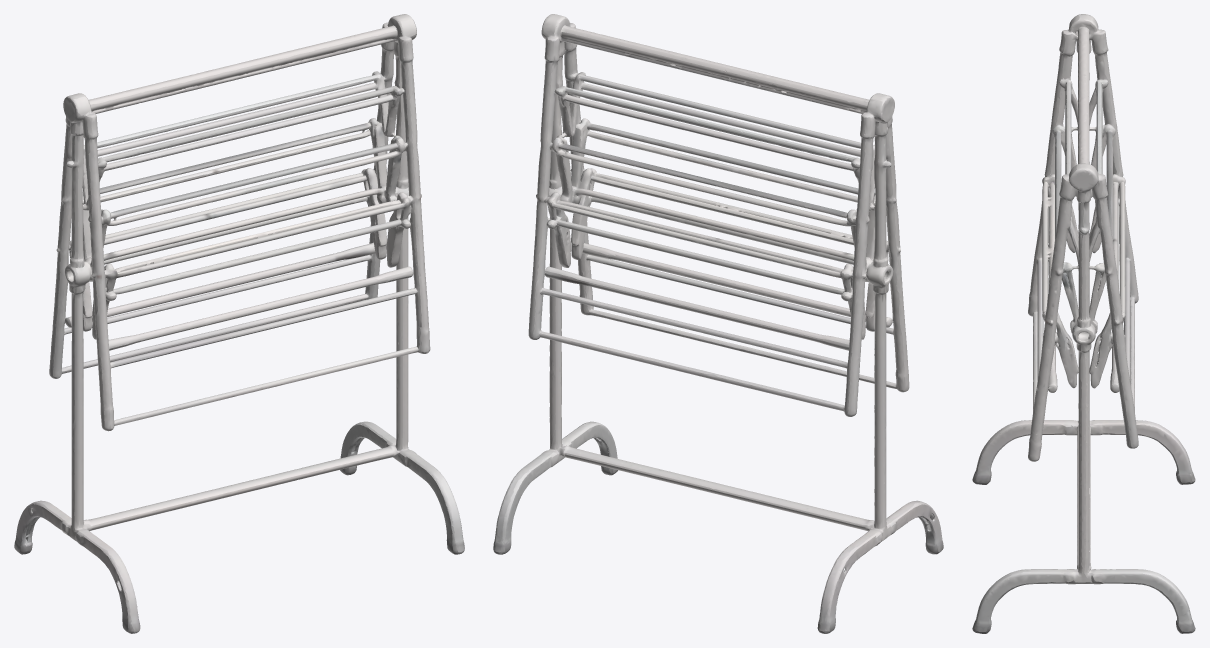
Rendered from item_146a145e.glb.
3 views of the same model, side by side, from view 1: azimuth 30°, elevation 25°; view 2: azimuth 150°, elevation 25°; view 3: azimuth 270°, elevation 25° (orthographic). The views are drawn at different scales.
Visible parts, largest first — view 1: world; view 2: world; view 3: world.
Boxes of the visible parts, x1=… form: world: x1=14, y1=14, x2=464, y2=633; world: x1=493, y1=14, x2=943, y2=633; world: x1=972, y1=14, x2=1195, y2=633.
Size of the model in its own units: 1.8 by 2.47 by 1.07.
Materials: 1 (1 with a texture image).
